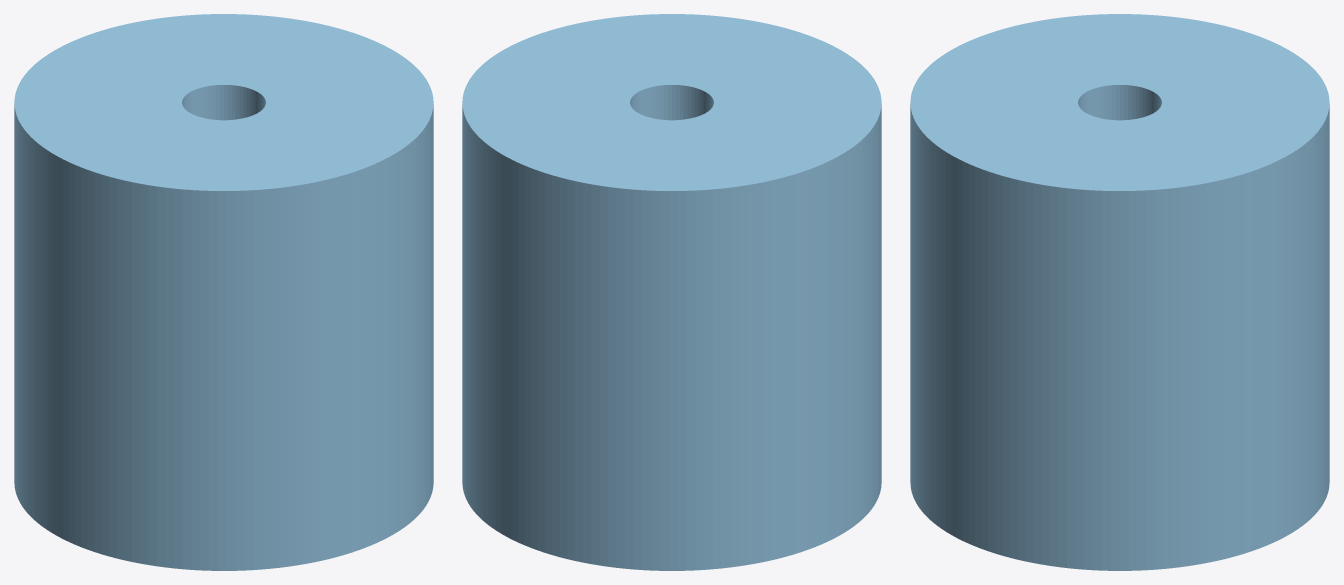
The model's file is BoxCylinder.dae.
3 views of the same model, side by side, from view 1: azimuth 30°, elevation 25°; view 2: azimuth 150°, elevation 25°; view 3: azimuth 270°, elevation 25° (orthographic).
Visible parts, largest first — view 1: 5abfd51e0541ed0f1fc442c2; view 2: 5abfd51e0541ed0f1fc442c2; view 3: 5abfd51e0541ed0f1fc442c2.
Boxes of the visible parts, <box> form: 5abfd51e0541ed0f1fc442c2: <box>14,14,433,570</box>; 5abfd51e0541ed0f1fc442c2: <box>462,14,881,570</box>; 5abfd51e0541ed0f1fc442c2: <box>910,14,1329,570</box>.
Size of the model in its own units: 0.05 by 0.05 by 0.05.
